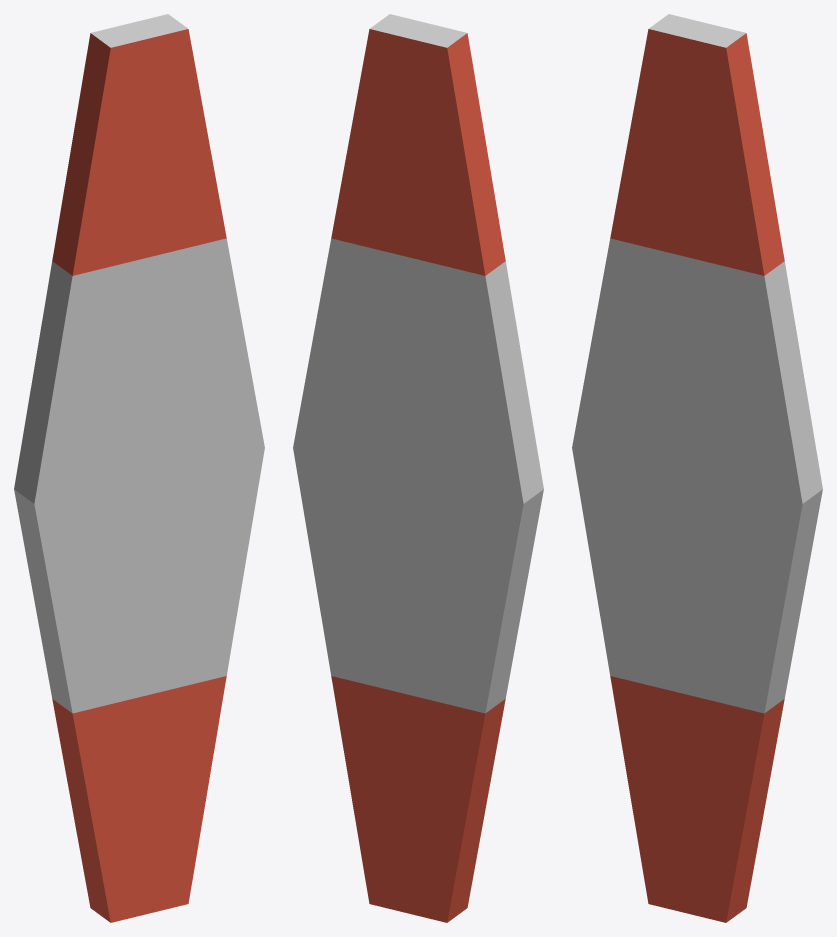
Rendered from propellor_small.glb.
3 views of the same model, side by side, from view 1: azimuth 30°, elevation 25°; view 2: azimuth 150°, elevation 25°; view 3: azimuth 330°, elevation 25° (orthographic).
Parts seen in each view (by area): view 1: Cube.003; view 2: Cube.003; view 3: Cube.003.
Boxes of the visible parts, x1,y1,x2,y2 form: Cube.003: (14,14,264,922); Cube.003: (293,14,543,922); Cube.003: (572,14,822,922).
Size of the model in its own units: 0.2755 by 0.999 by 0.0422.
